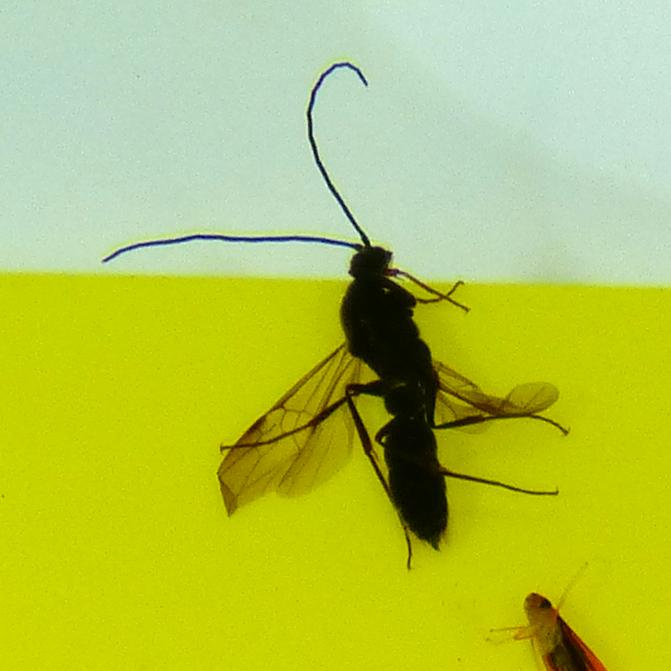Hymenoptera: (100, 100, 571, 571)
